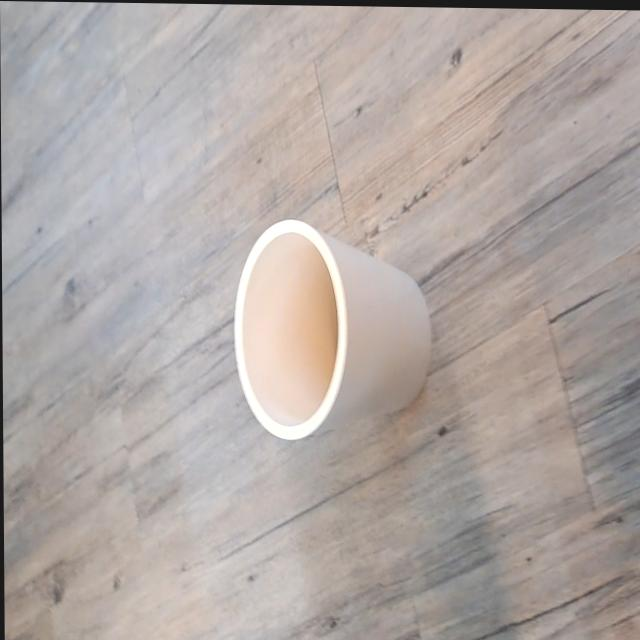CORAL: (208, 189, 457, 477)
